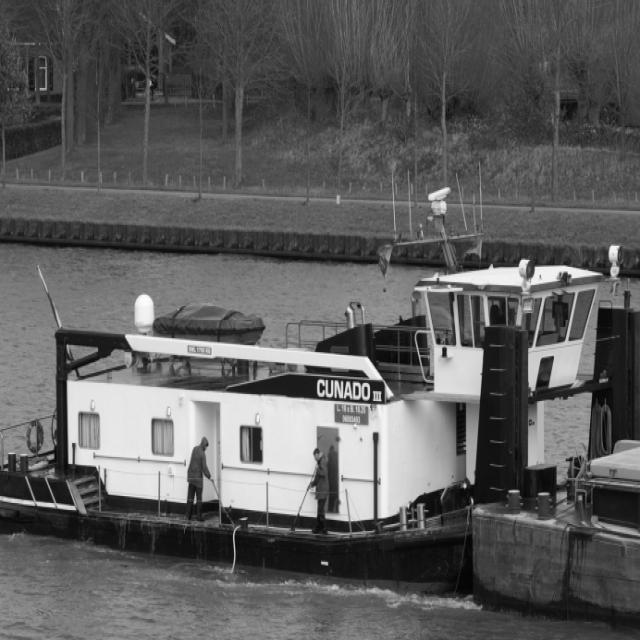tugboat: (1, 154, 640, 618)
